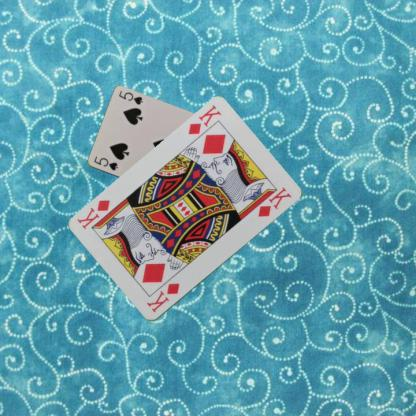5s: (91, 154, 119, 172)
Kd: (144, 280, 181, 314), (186, 102, 222, 136)
